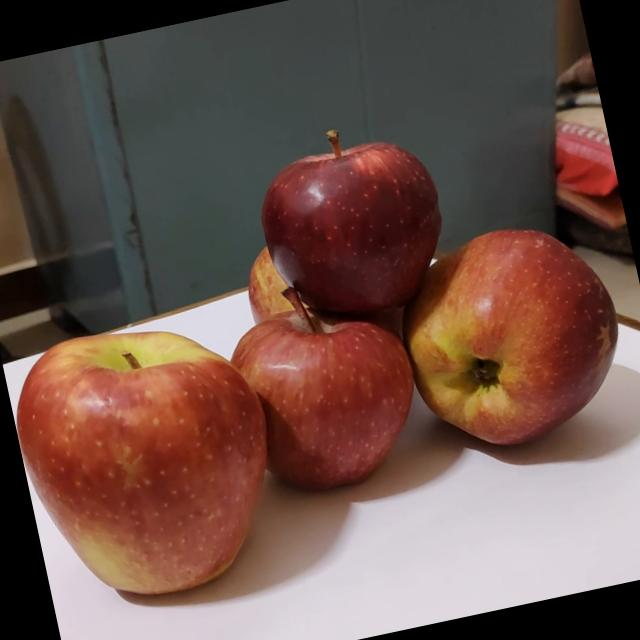apple: (0, 297, 296, 621), (380, 205, 640, 468), (210, 260, 431, 512), (232, 104, 460, 337), (230, 234, 314, 333)
